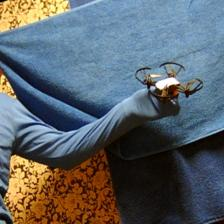drone: (134, 61, 205, 105)
